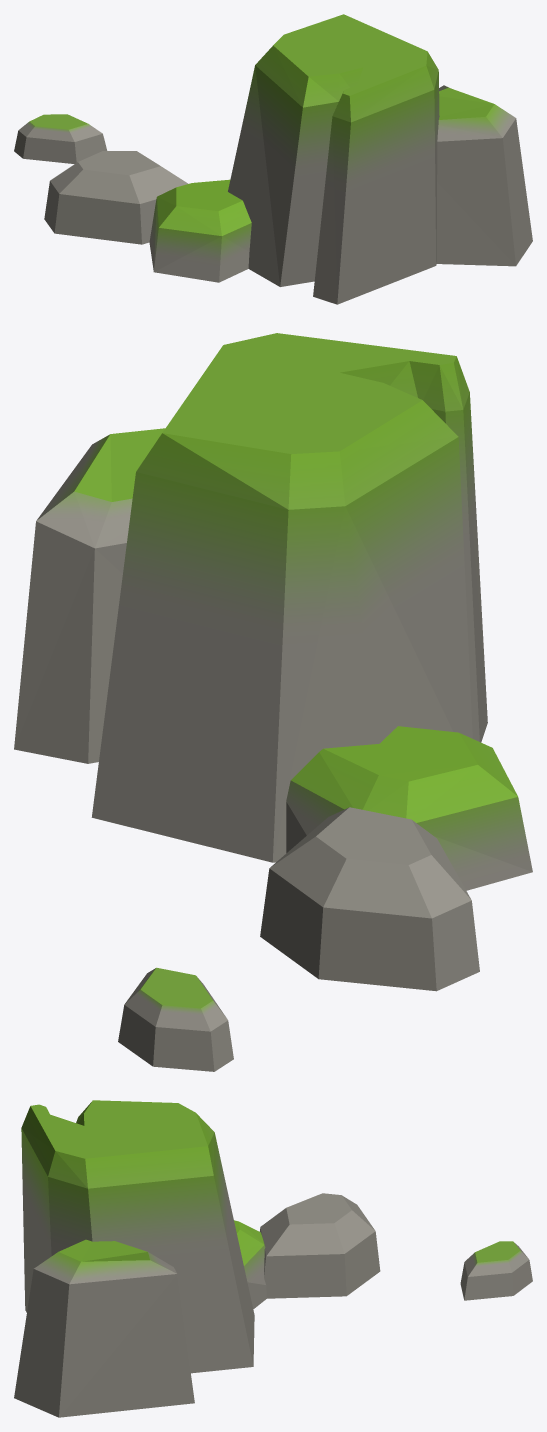
File: Rock_3.fbx
3 renders of one model, top to bottom at view 1: azimuth 30°, elevation 25°; view 2: azimuth 150°, elevation 25°; view 3: azimuth 270°, elevation 25°, orthographic. The views are drawn at different scales.
Visible parts, largest first — view 1: polySurface1498; view 2: polySurface1498; view 3: polySurface1498.
Boxes of the visible parts, x1=… form: polySurface1498: x1=14, y1=14, x2=532, y2=304; polySurface1498: x1=14, y1=333, x2=532, y2=1071; polySurface1498: x1=14, y1=1100, x2=532, y2=1417.
Bounding box in the file's own units: 74.97 × 41.49 × 92.14.
